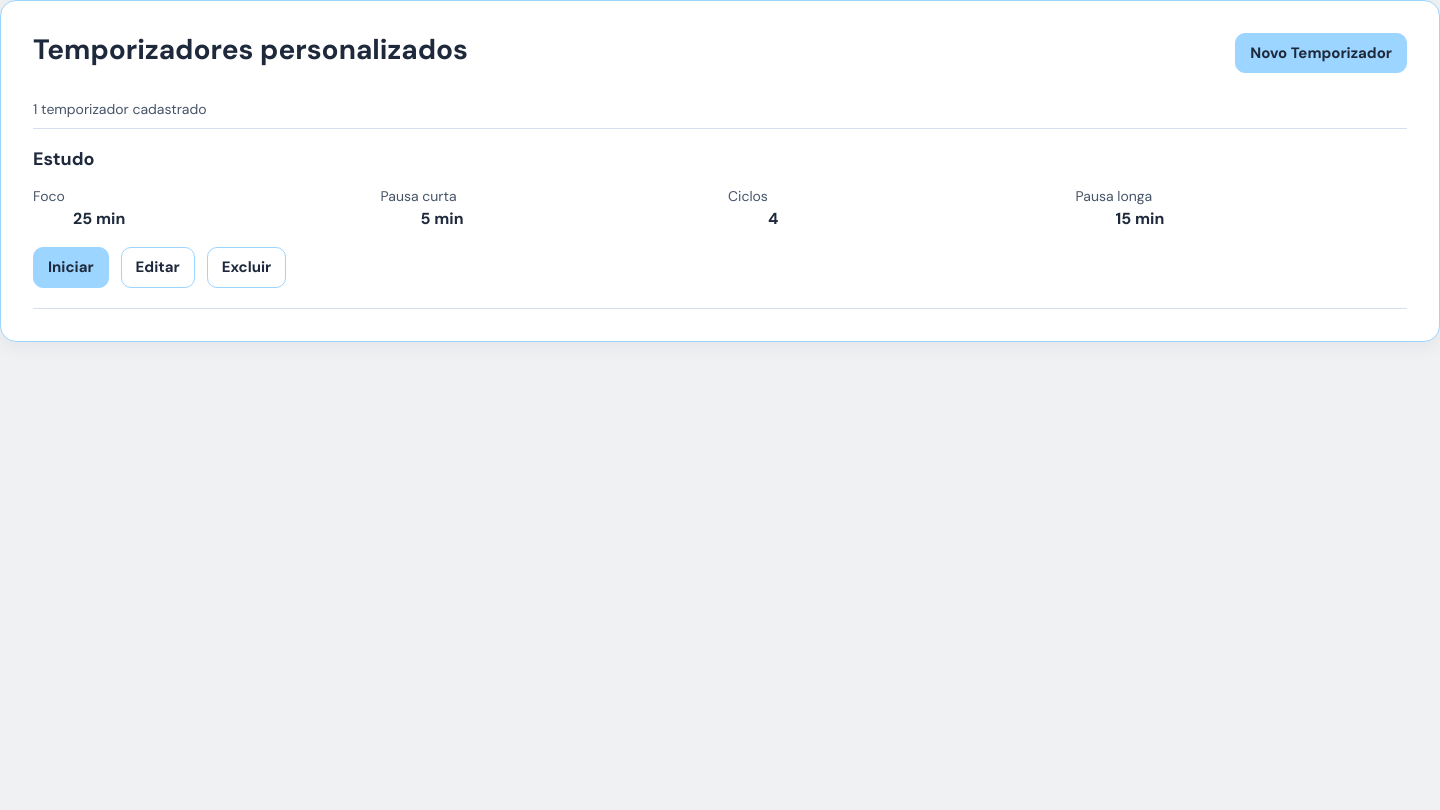
Scenario: GerenciadorPresets › abre o formulário preenchido e salva a edição
Click the button "Editar": [158, 267] box [121,247,195,288]
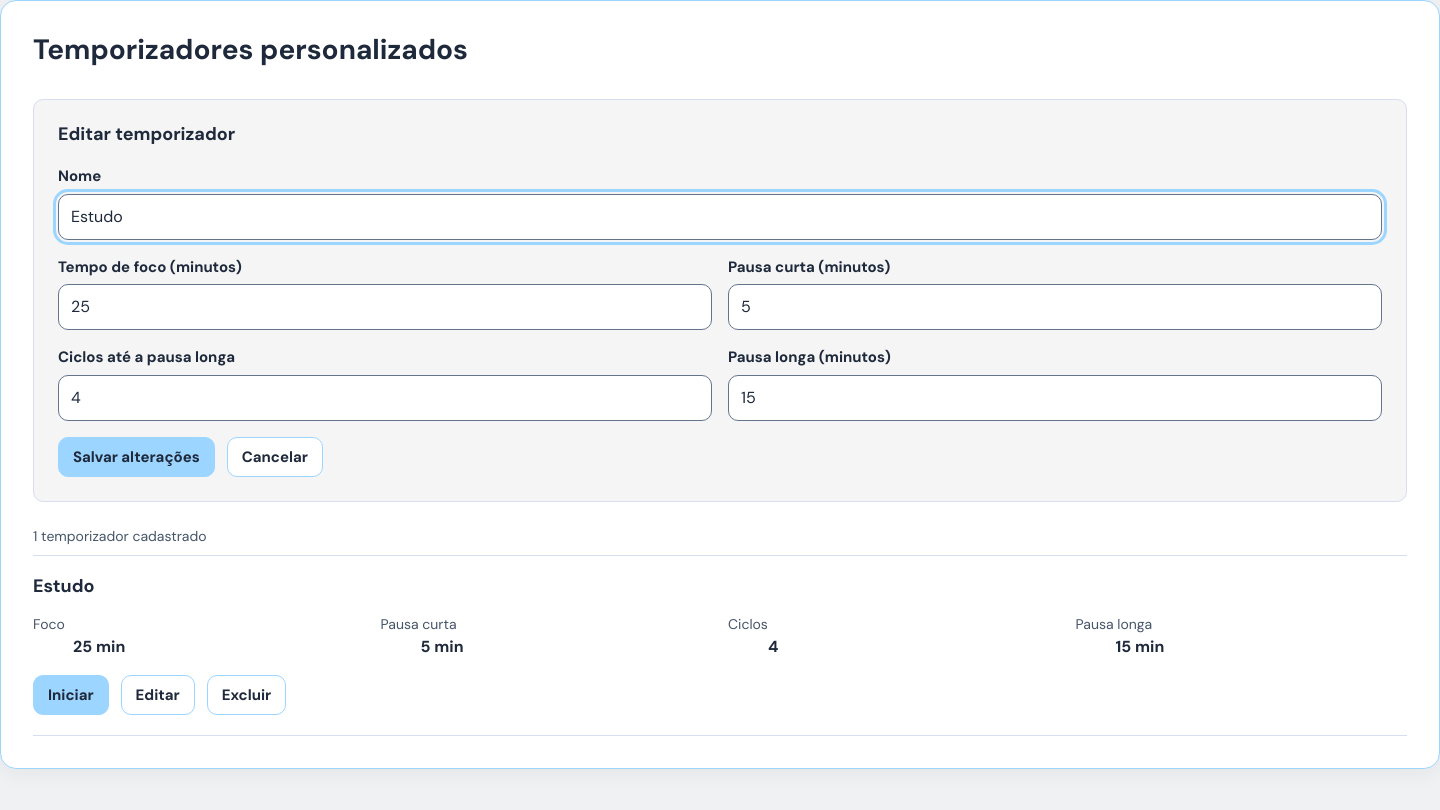
Expected: the field labelled "Nome" holds "Estudo"
Expected: the number field labelled "Tempo de foco (minutos)" holds "25", [58,284,712,330]
Replace the text in the field labelled "Nome" with "Redação": [720, 217] box [58,194,1382,240]
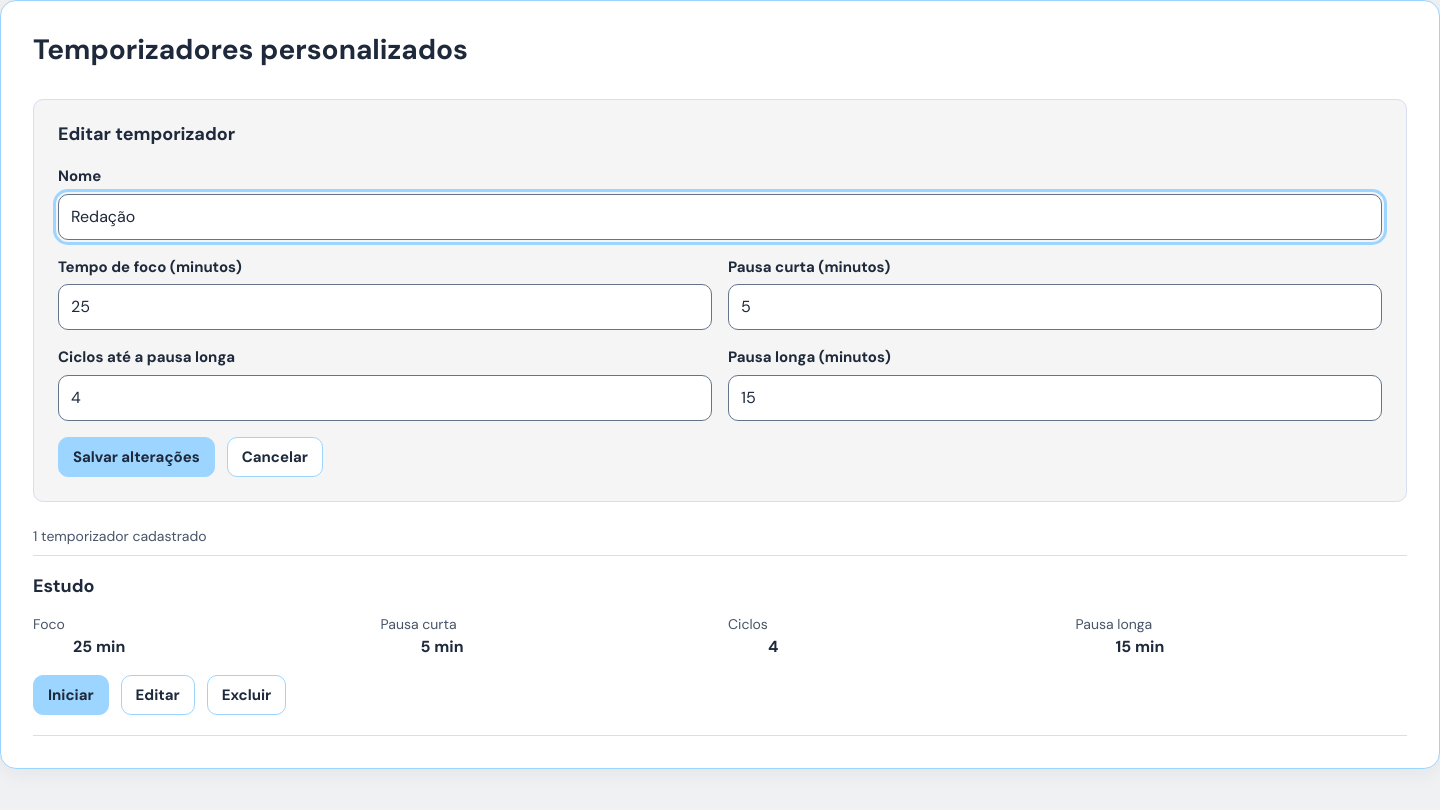
Replace the text in the number field labelled "Tempo de foco (minutos)" with "50": [385, 307] box [58,284,712,330]
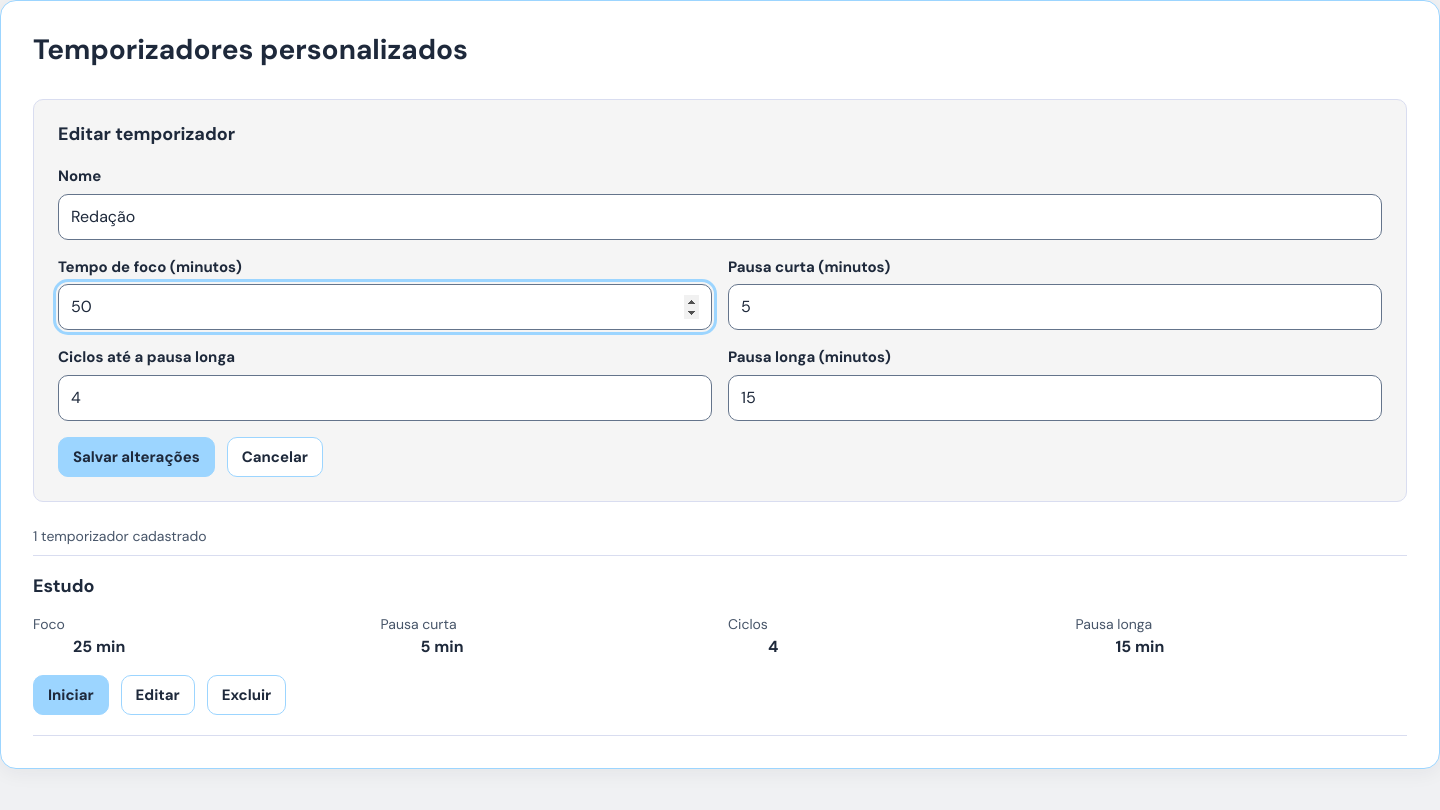
Click the button "Salvar alterações": [136, 457] box [58,437,215,477]
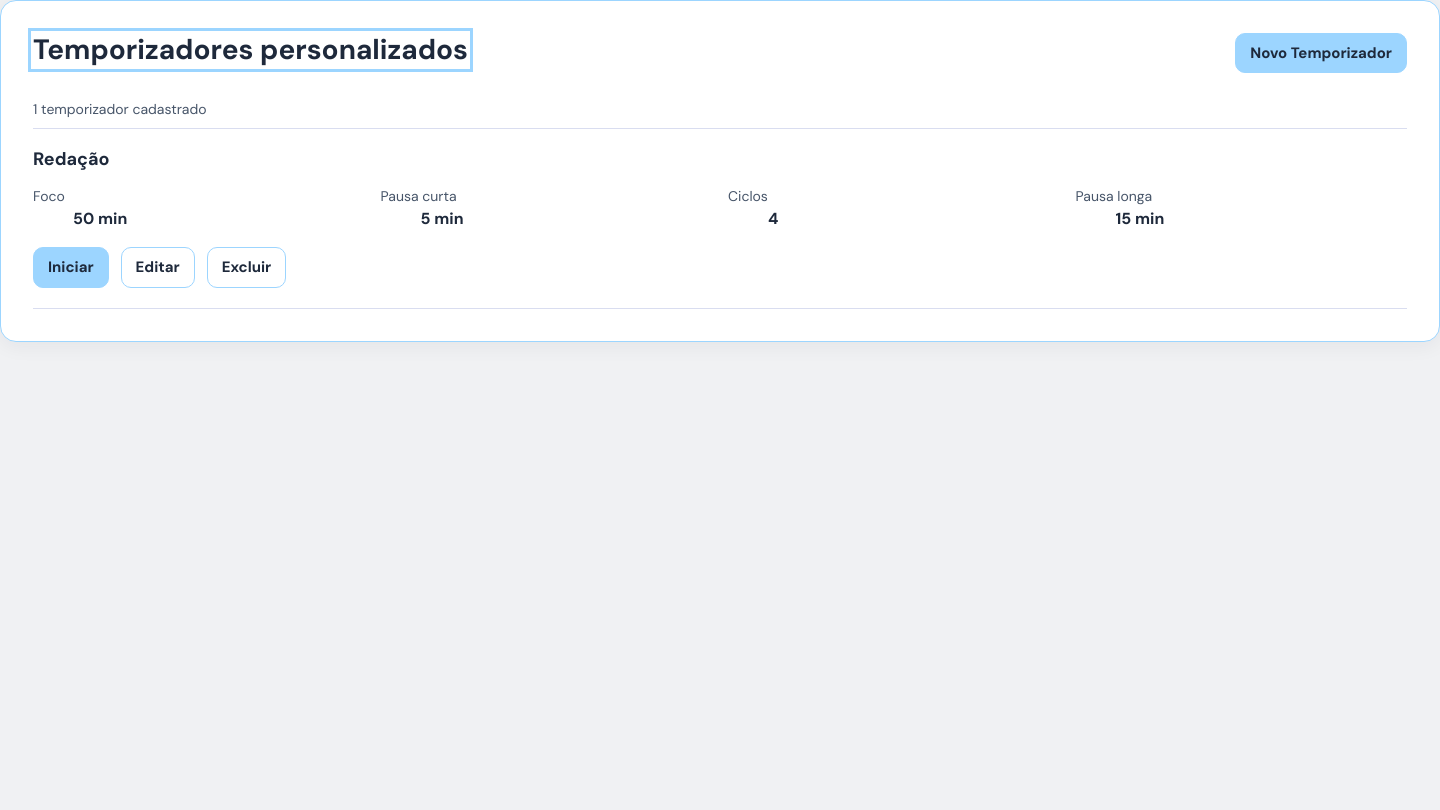
Expected: the heading "Redação" is shown, [33,149,110,170]
